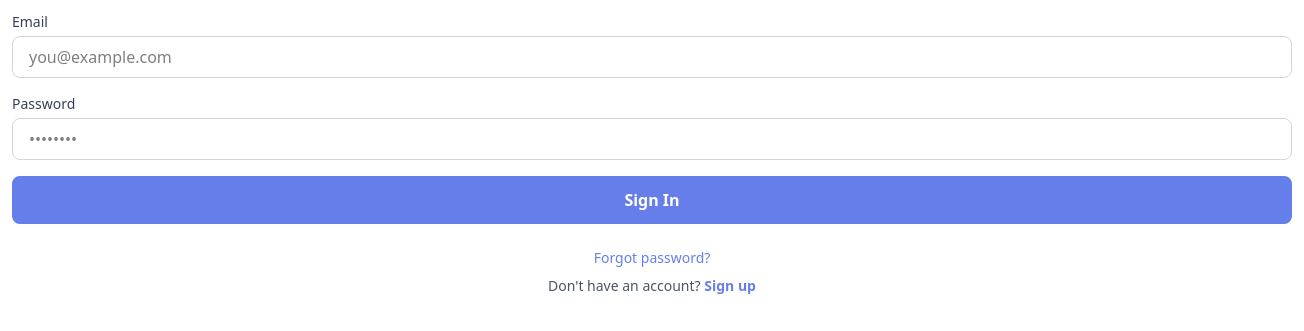
Test: EmailAuthFormComponent › validation › rejects an invalid email address
Type "not-an-email" into the field with id "email" at (652, 57), box [12,36,1292,78]
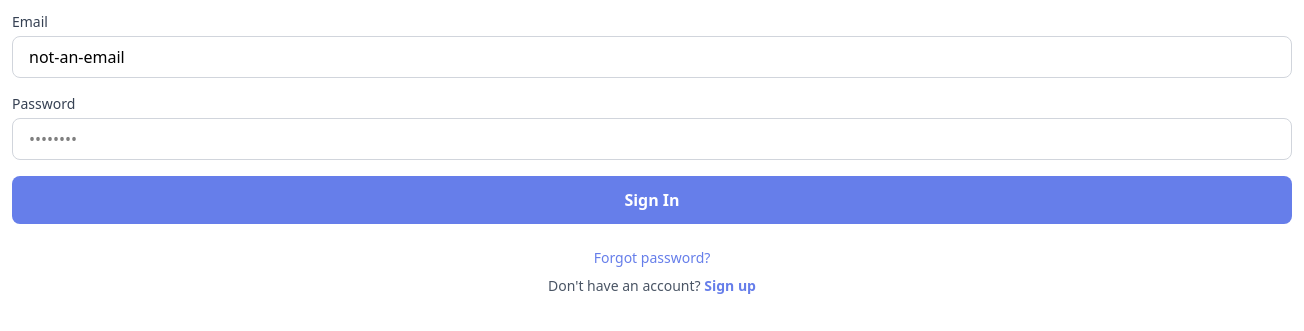
Type "secret123" into the password field labelled "Password" at (652, 139), box [12,118,1292,160]
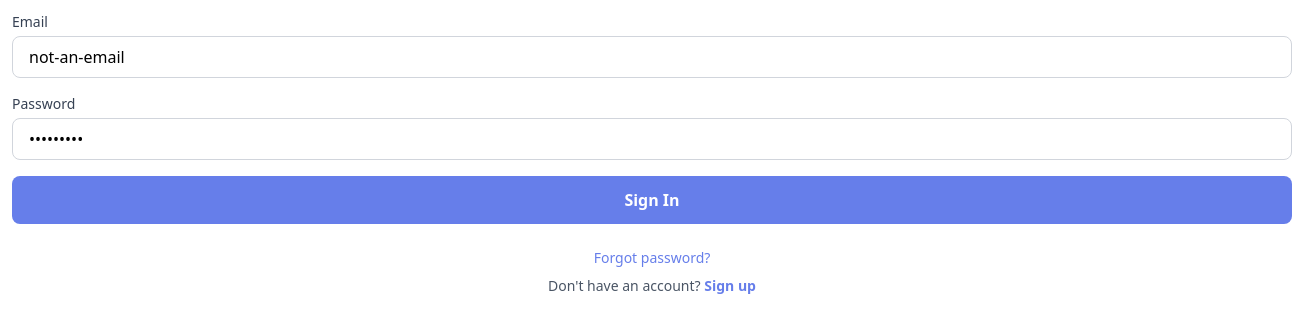
Submit the form
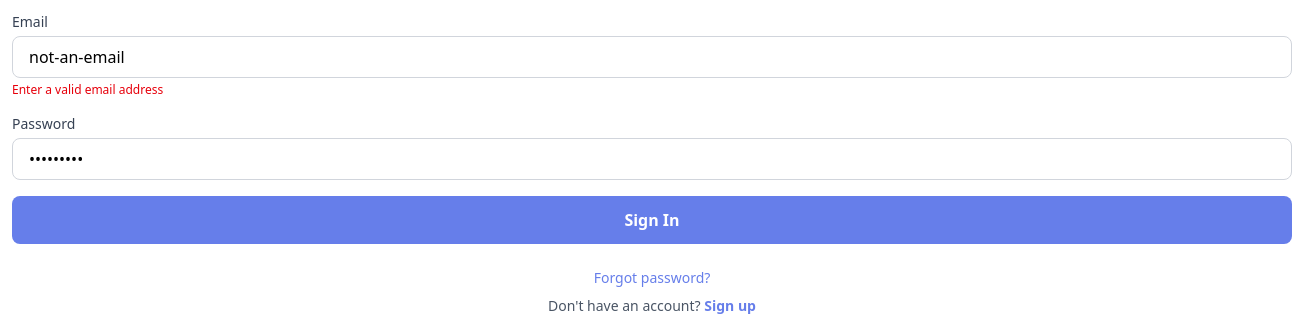
Now the text with test id "email-error" reads "Enter a valid email address", box [12,81,163,98]
